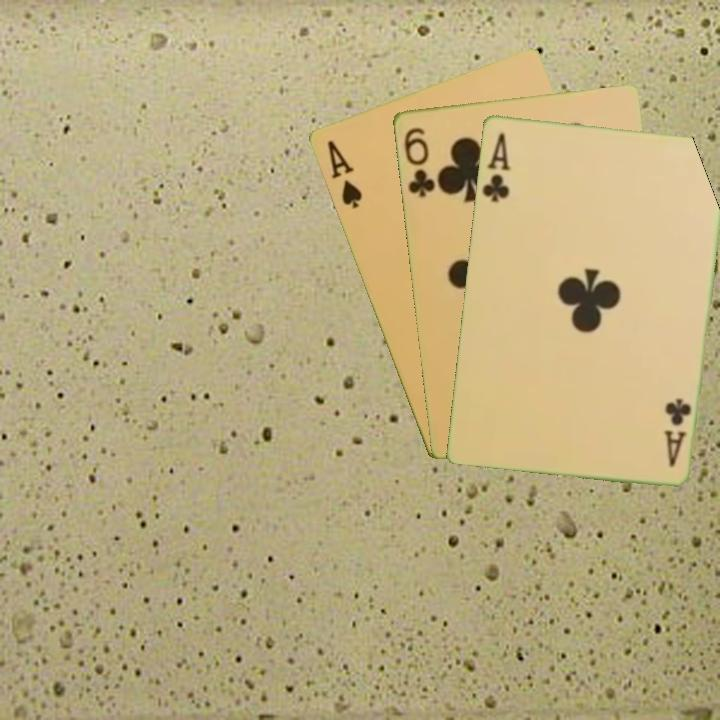6c: (400, 123, 437, 200)
Ac: (478, 129, 512, 205), (660, 394, 694, 470)
As: (323, 136, 365, 212)
